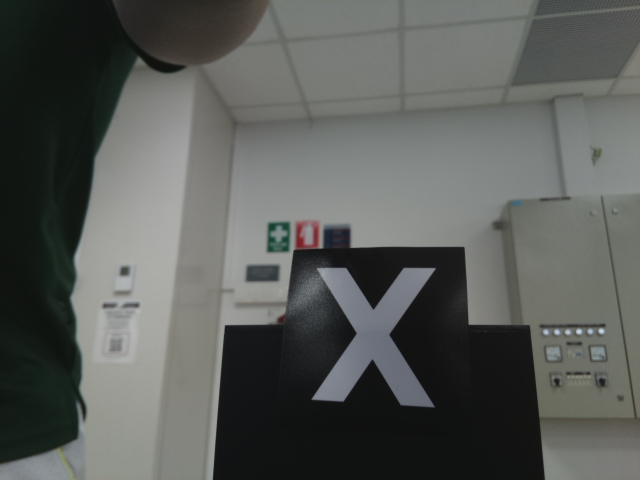x: (305, 260, 445, 414)
